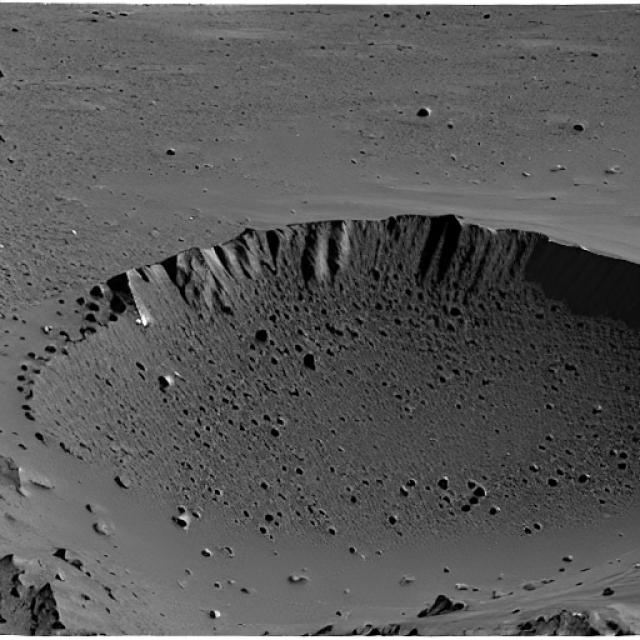crater: (22, 212, 640, 640)
